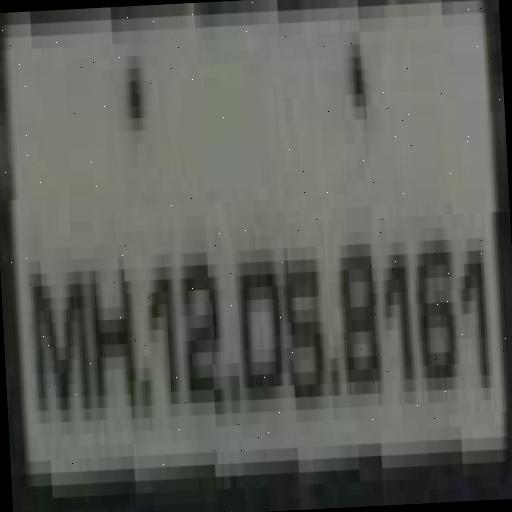number plate: (13, 11, 512, 474)
